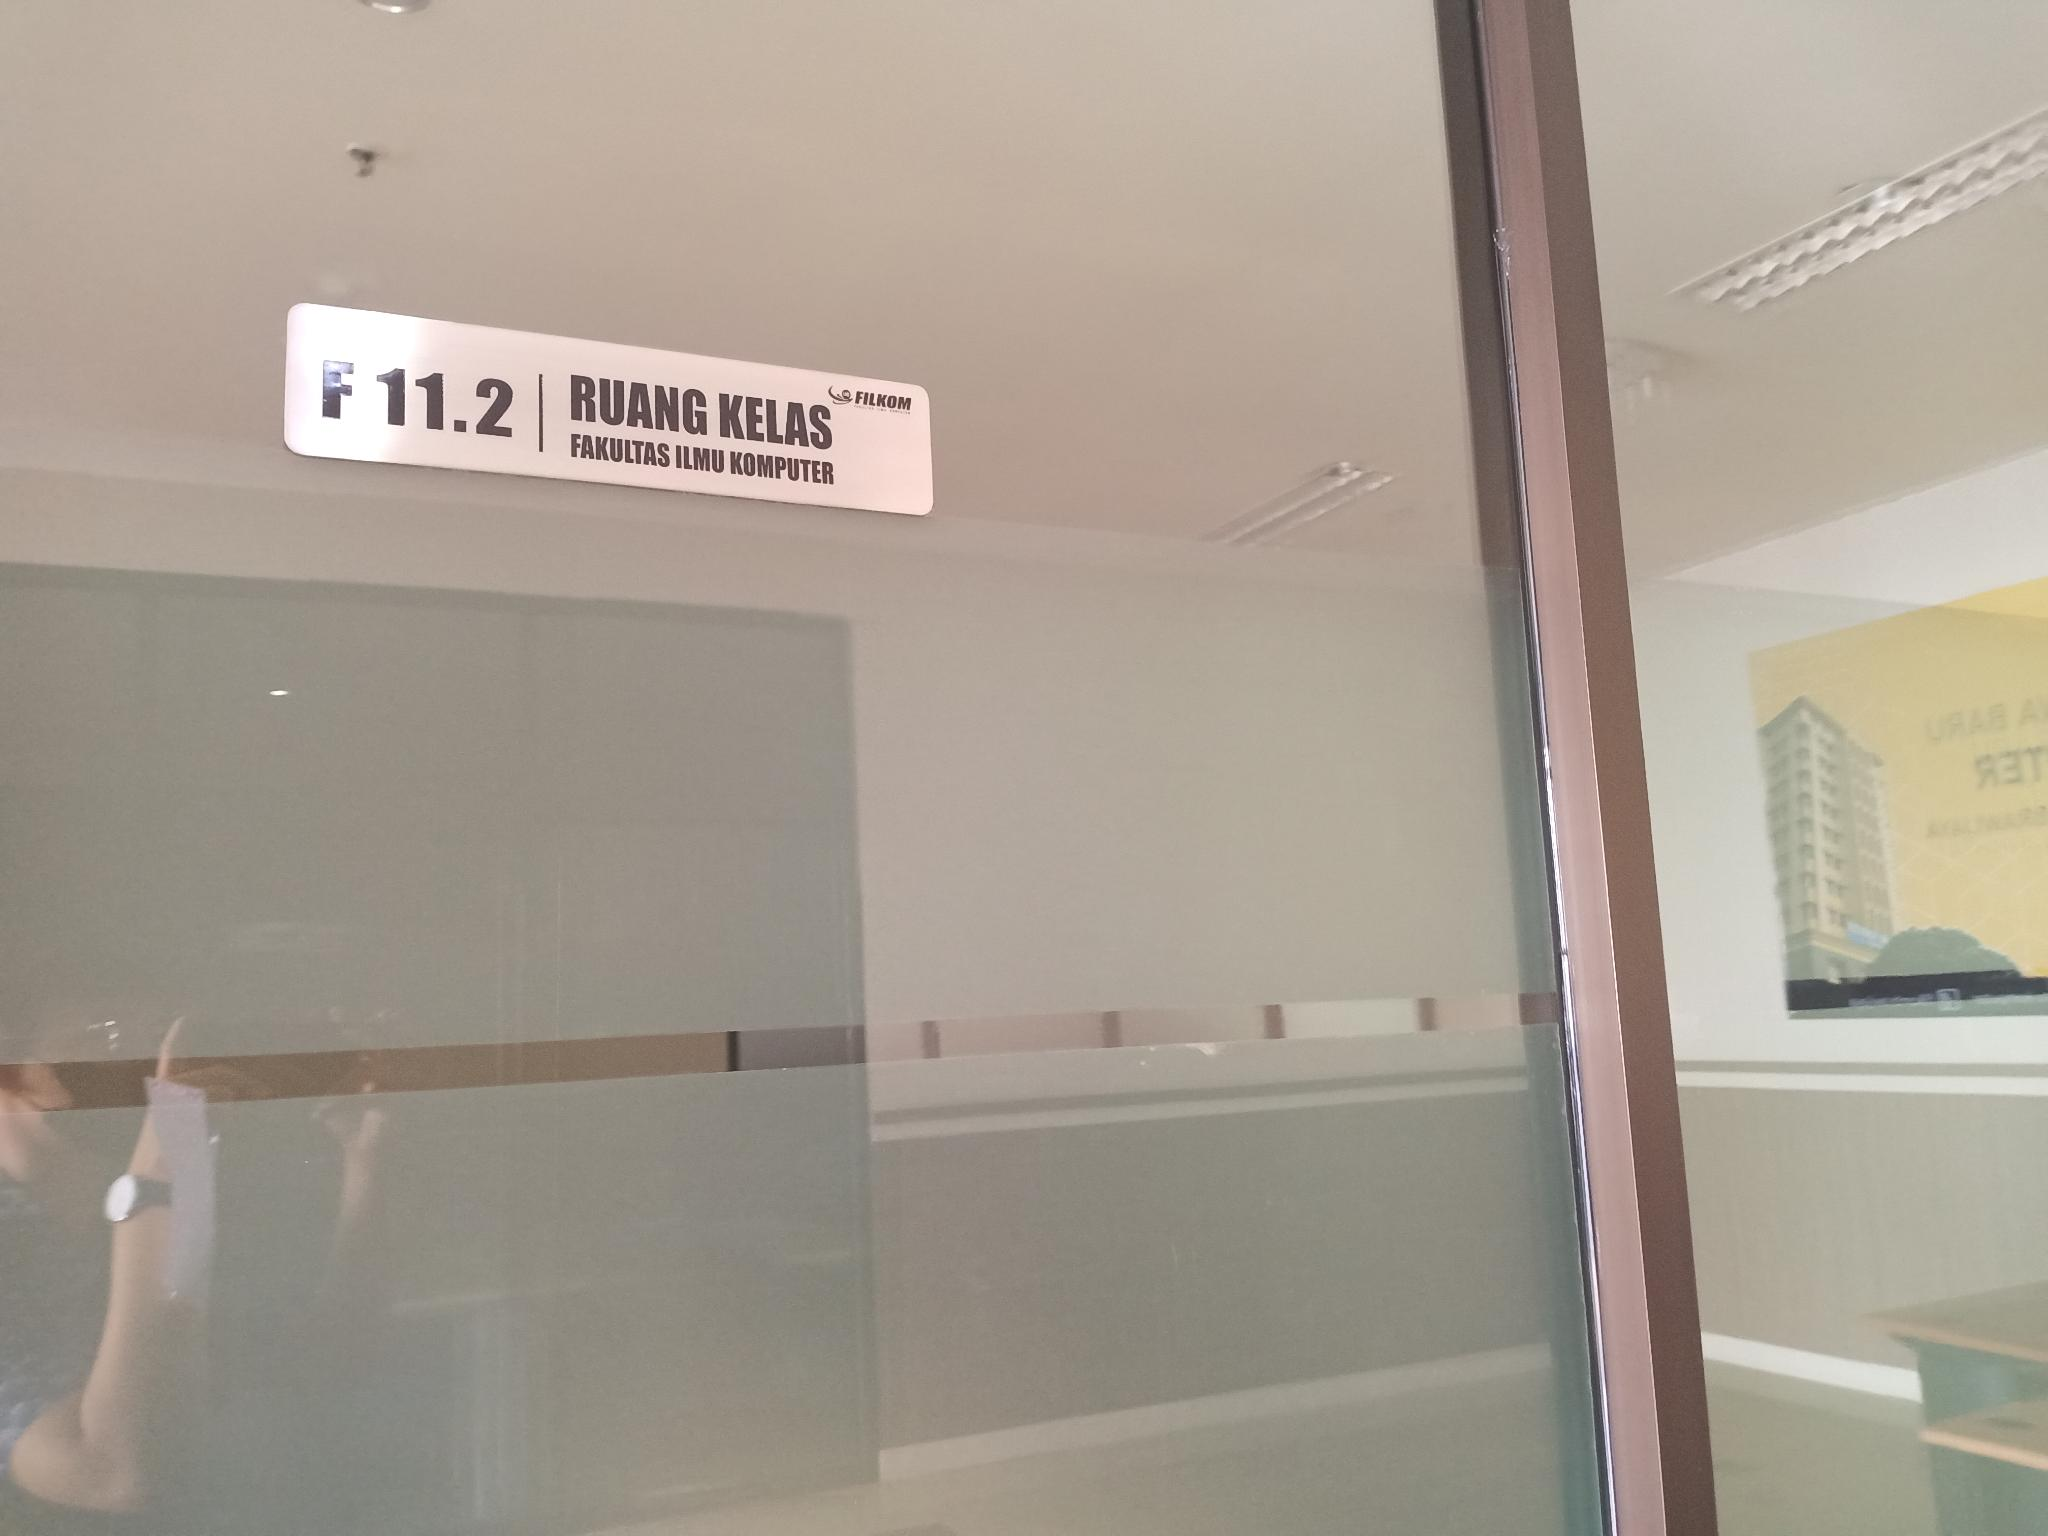plate: (277, 295, 939, 520)
